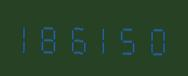eight: (42, 19, 66, 55)
five: (118, 20, 142, 56)
one: (17, 18, 41, 55), (93, 19, 117, 56)
six: (68, 19, 92, 55)
zero: (143, 20, 167, 57)
